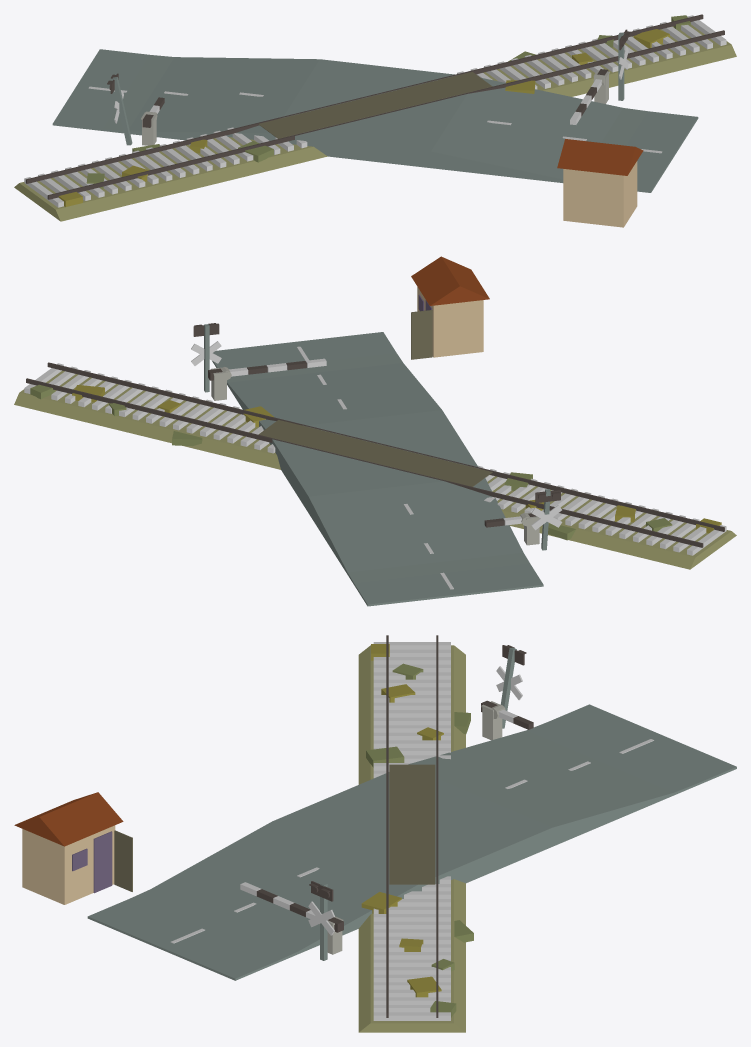
Rendered from SM_PasoNivel_45_v2_Abandonado_LOD0.fbx.
3 renders of one model, top to bottom at view 1: azimuth 30°, elevation 25°; view 2: azimuth 150°, elevation 25°; view 3: azimuth 270°, elevation 25°, orthographic. The views are drawn at different scales.
Parts seen in each view (by area): view 1: SM_paso_nivel_kit_v12_LOD0, Barrera_1; view 2: SM_paso_nivel_kit_v12_LOD0, Barrera_1; view 3: SM_paso_nivel_kit_v12_LOD0, Barrera_1.
Part boxes in pixels (x1,y1,x2,y2): SM_paso_nivel_kit_v12_LOD0: [14, 14, 736, 227]; Barrera_1: [570, 69, 608, 124]; SM_paso_nivel_kit_v12_LOD0: [14, 256, 736, 606]; Barrera_1: [208, 358, 326, 380]; SM_paso_nivel_kit_v12_LOD0: [14, 635, 736, 1032]; Barrera_1: [240, 882, 343, 932].
Size of the model in its own units: 30 by 3.04 by 24.25.
